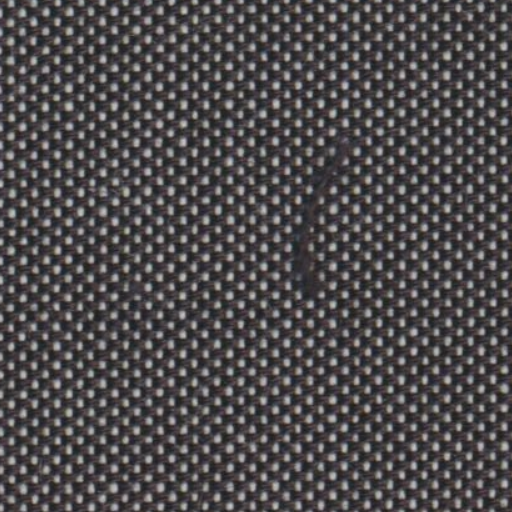DuanSha: (288, 127, 365, 299)
